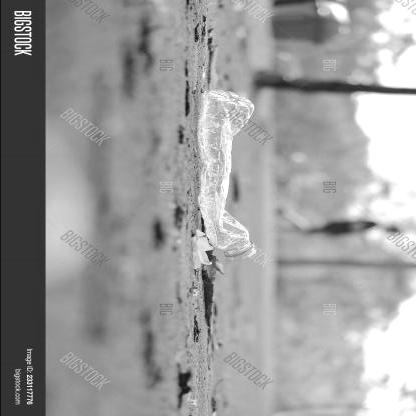bottle: (171, 78, 272, 260)
